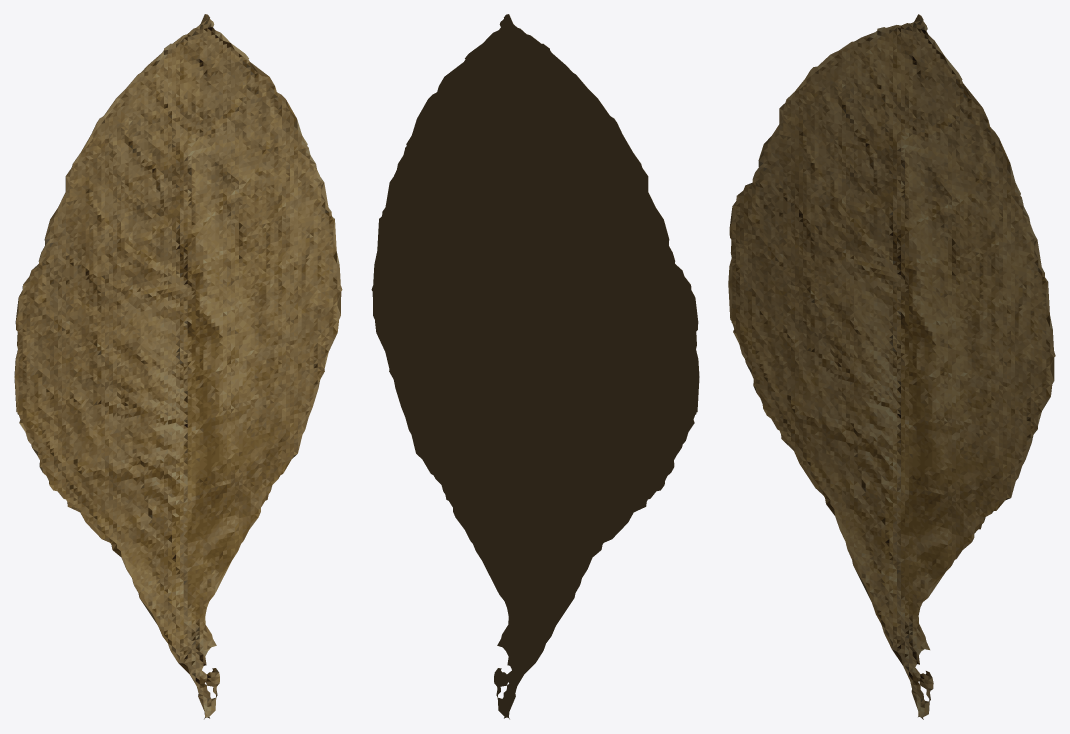
The model's file is 20260828_170625746_iOS.obj.
3 views of the same model, side by side, from view 1: azimuth 30°, elevation 25°; view 2: azimuth 150°, elevation 25°; view 3: azimuth 330°, elevation 25° (orthographic).
Parts seen in each view (by area): view 1: 20260828_170625746_iOS; view 2: 20260828_170625746_iOS; view 3: 20260828_170625746_iOS.
Part boxes in pixels (left/top/right/bottom): 20260828_170625746_iOS: left=14, top=14, right=342, bottom=719; 20260828_170625746_iOS: left=371, top=14, right=699, bottom=719; 20260828_170625746_iOS: left=728, top=14, right=1055, bottom=719.
Bounding box in the file's own units: 250 × 515 × 0.3.
